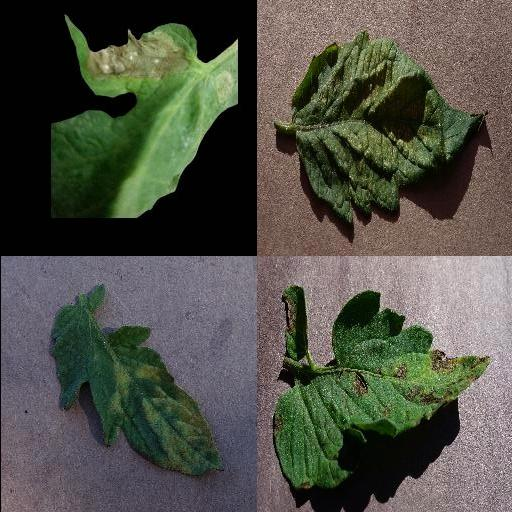Early Blight: (269, 291, 491, 489)
Late Blight: (49, 15, 237, 219)
Leaf Mold: (49, 287, 227, 475)
Spider Mites: (288, 28, 488, 222)
